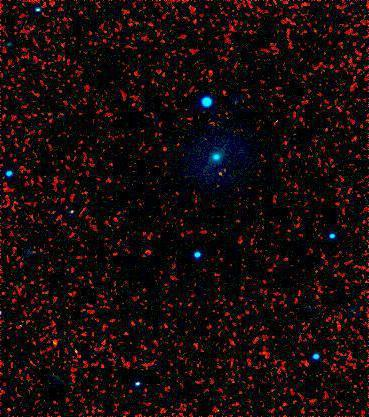star: (207, 157, 237, 187)
